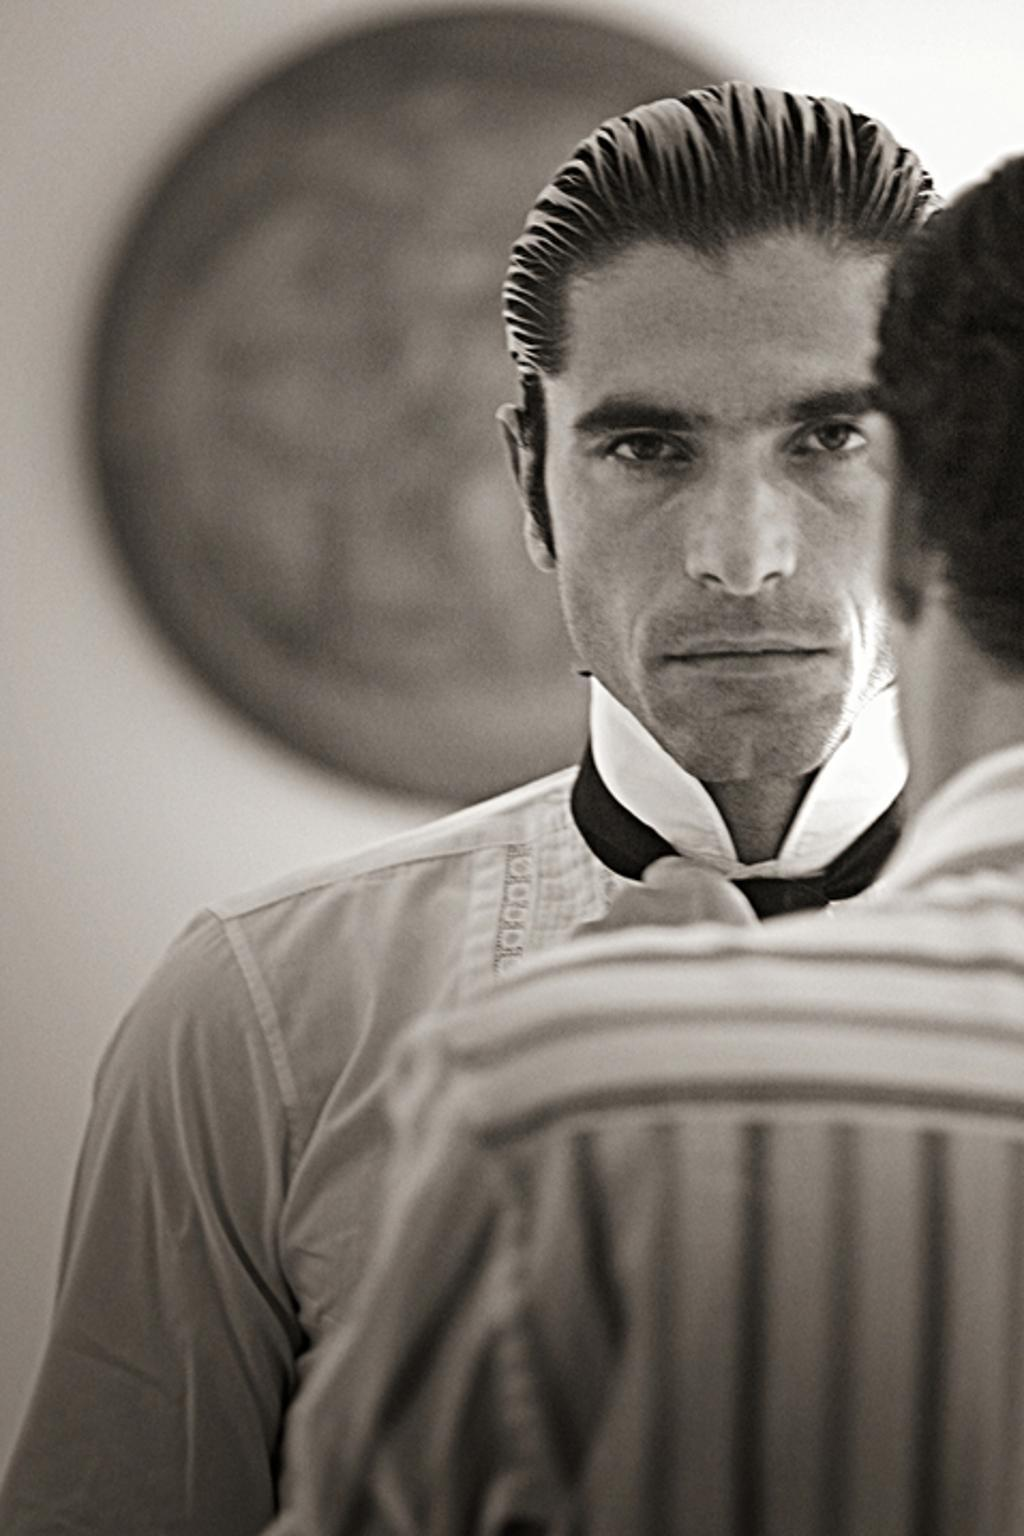face: (548, 268, 938, 785)
